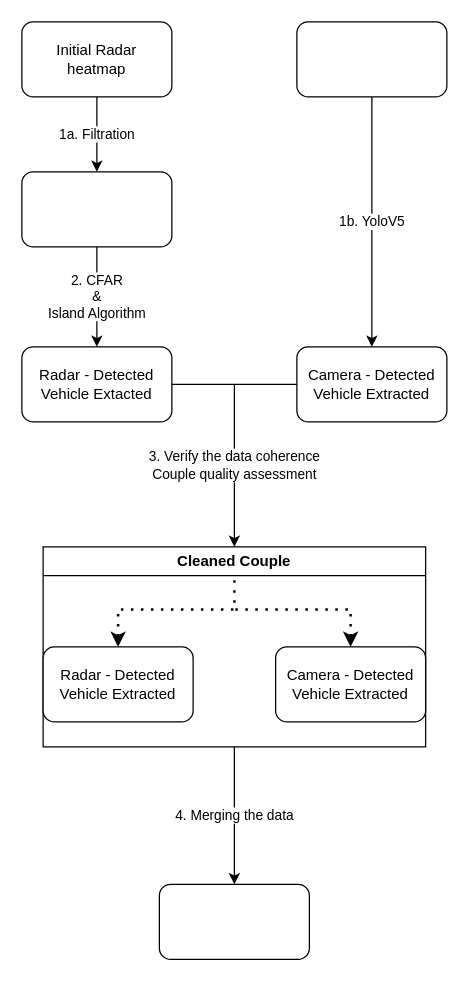
The diagram is 469 pixels wide and 981 high, and some of its shapes have lost their labels. Each missing label, with the centre of its shape:
"Filtred heatmap" goes at point (96, 209).
"Initial RGB images" goes at point (371, 59).
"Labelized couple data" goes at point (233, 921).
